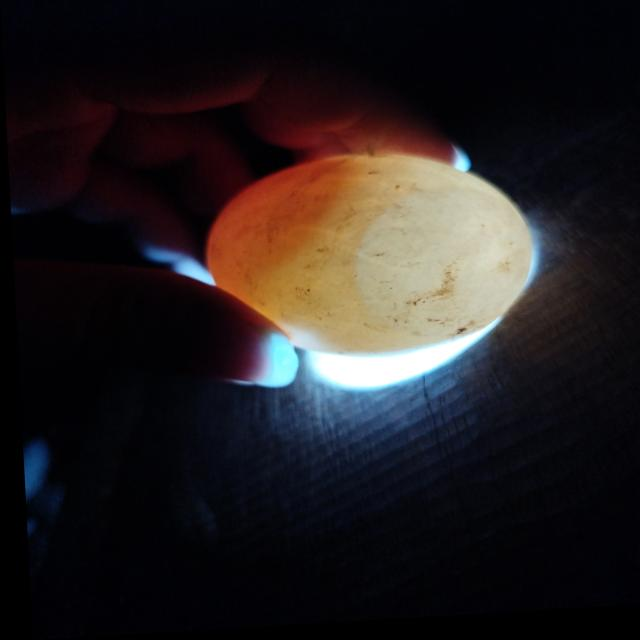Camara de Ar: (353, 198, 528, 344)
